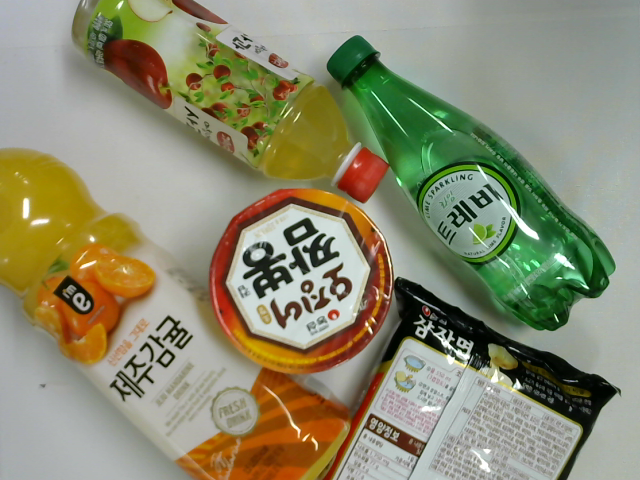Jeju_Tangerine_1.5L: (1, 143, 355, 480)
Morning_Apple_500ml: (71, 1, 391, 205)
Ojjam: (207, 189, 394, 376)
Potato: (321, 275, 625, 480)
Treviraim_500ml: (326, 36, 616, 336)
